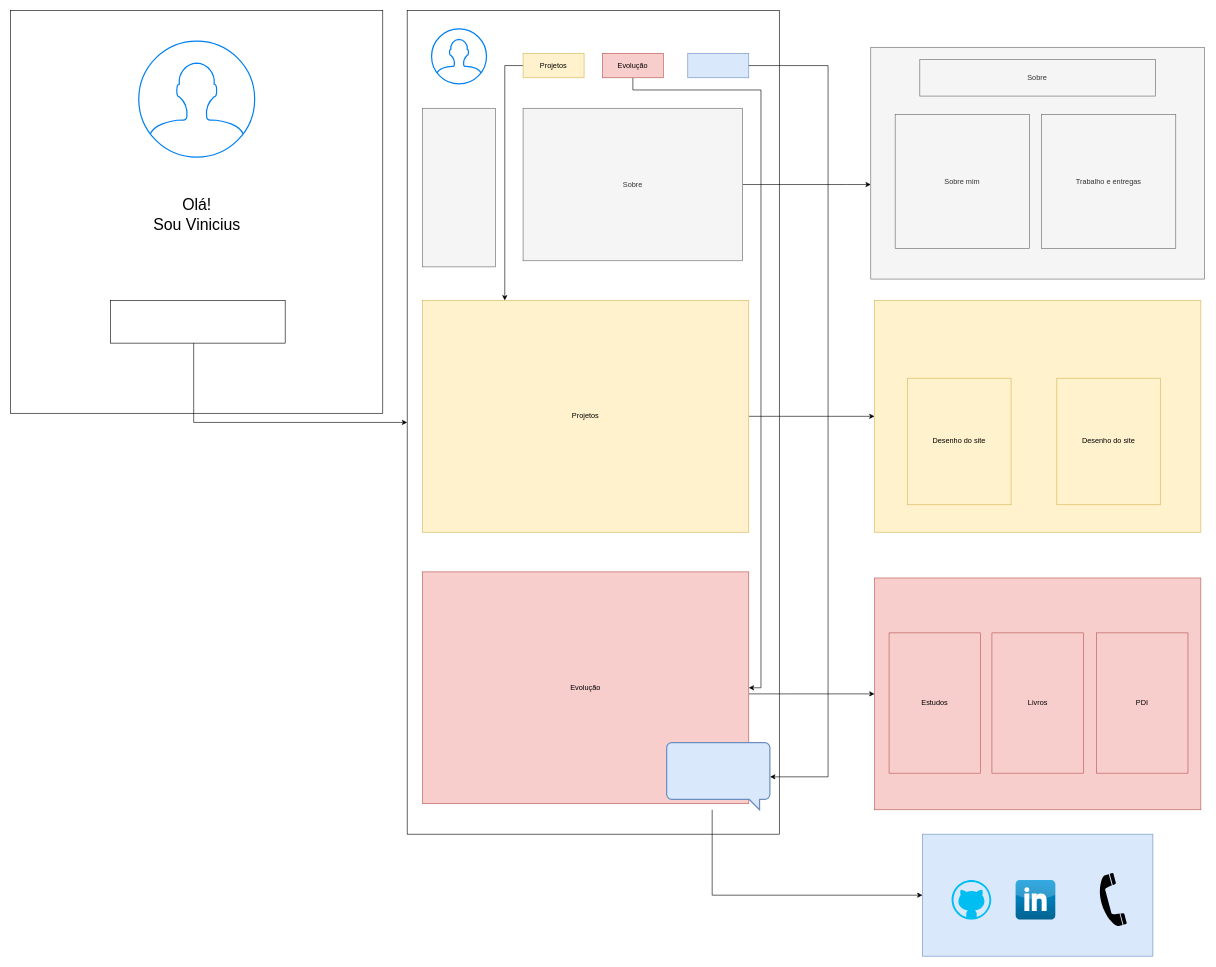
The diagram is 1216 pixels wide and 967 high, and some of its shapes have lost their labels. Each missing label, with the centre of its shape:
Contatos: point 718,65
Hobbies: point 459,187
Para me conhecer mais clique aqui: point 197,321
